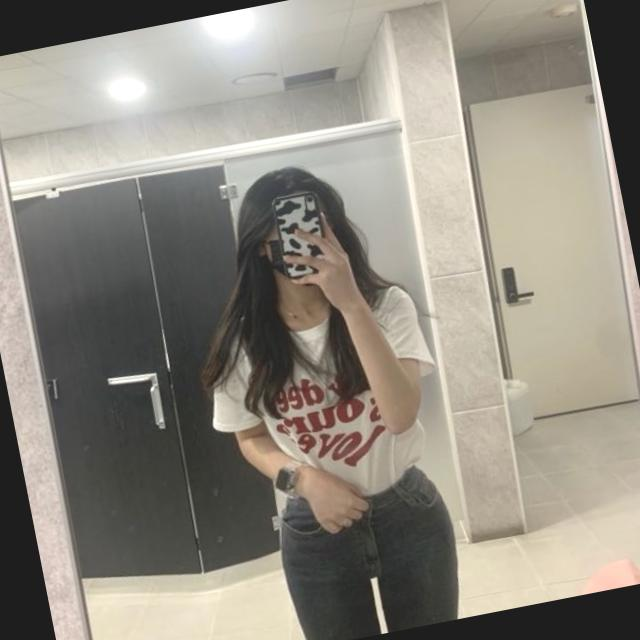denimpants: (264, 457, 467, 640)
shortsleeve: (199, 280, 462, 522)
